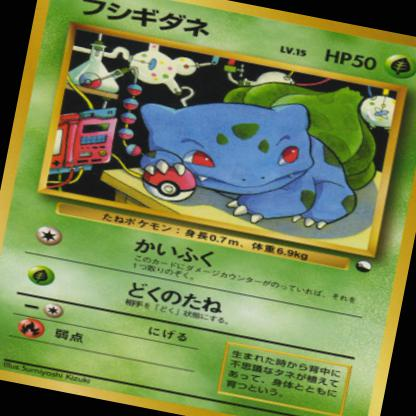Bulbasaur: (123, 47, 395, 248)
